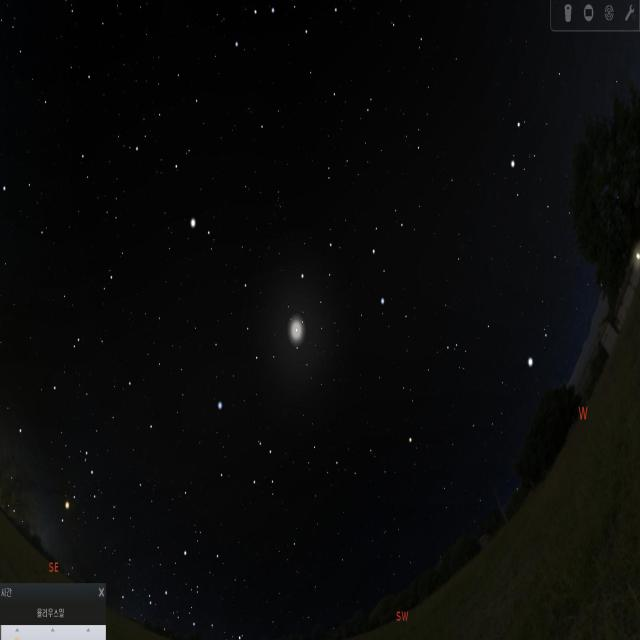bootes: (153, 57, 210, 251)
canis_minor: (519, 315, 558, 384)
gemini: (507, 105, 592, 200)
leo: (288, 197, 407, 325)
moon: (278, 298, 315, 359)
scorpius: (57, 448, 107, 548)
